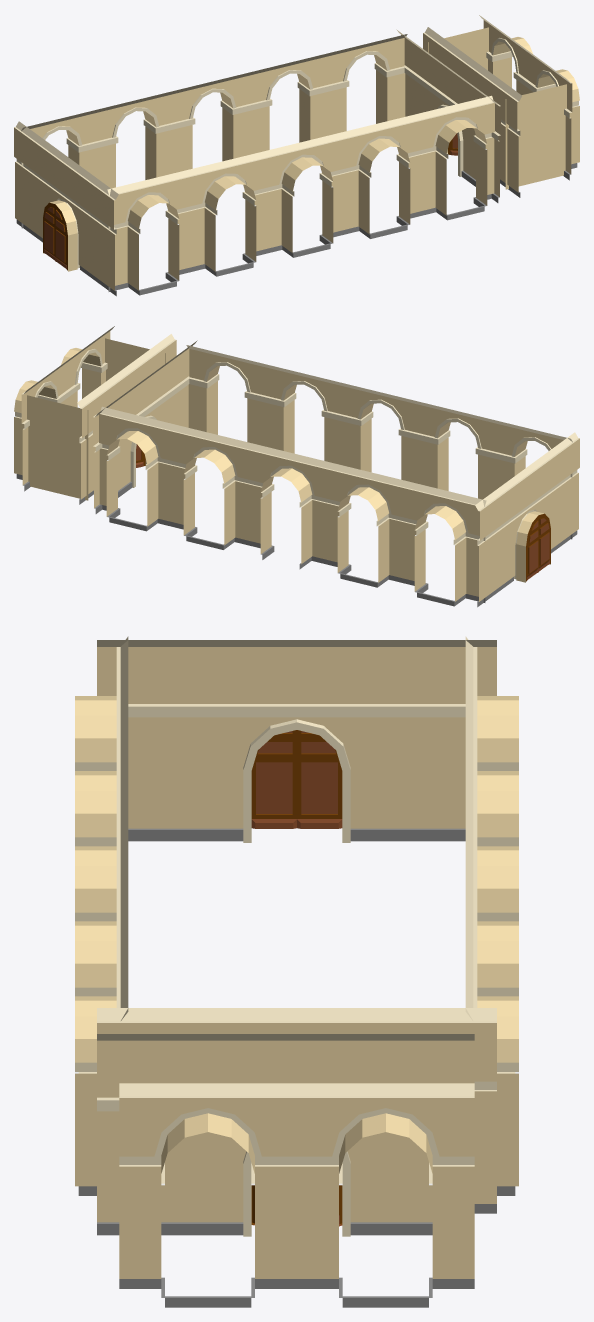
File: Salle_1_Murs.fbx
3 renders of one model, top to bottom at view 1: azimuth 30°, elevation 25°; view 2: azimuth 150°, elevation 25°; view 3: azimuth 270°, elevation 25°, orthographic. The views are drawn at different scales.
Parts seen in each view (by area): view 1: Salle_1_Murs; view 2: Salle_1_Murs; view 3: Salle_1_Murs.
Boxes of the visible parts, x1=… form: Salle_1_Murs: x1=14, y1=15, x2=579, y2=296; Salle_1_Murs: x1=14, y1=326, x2=579, y2=607; Salle_1_Murs: x1=75, y1=636, x2=518, y2=1307.
Size of the model in its own units: 5110 by 1011 by 2000.
Materials: 1 (1 with a texture image).
